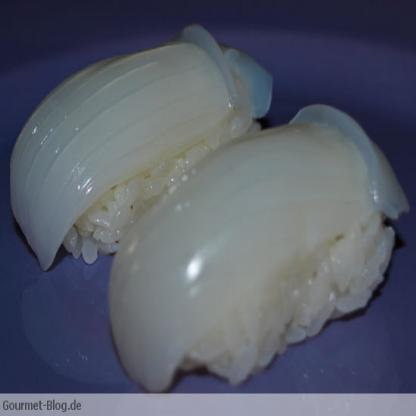ika: (94, 104, 416, 407)
